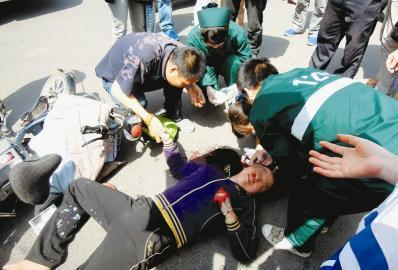Fall-Detected: (0, 130, 279, 270)
